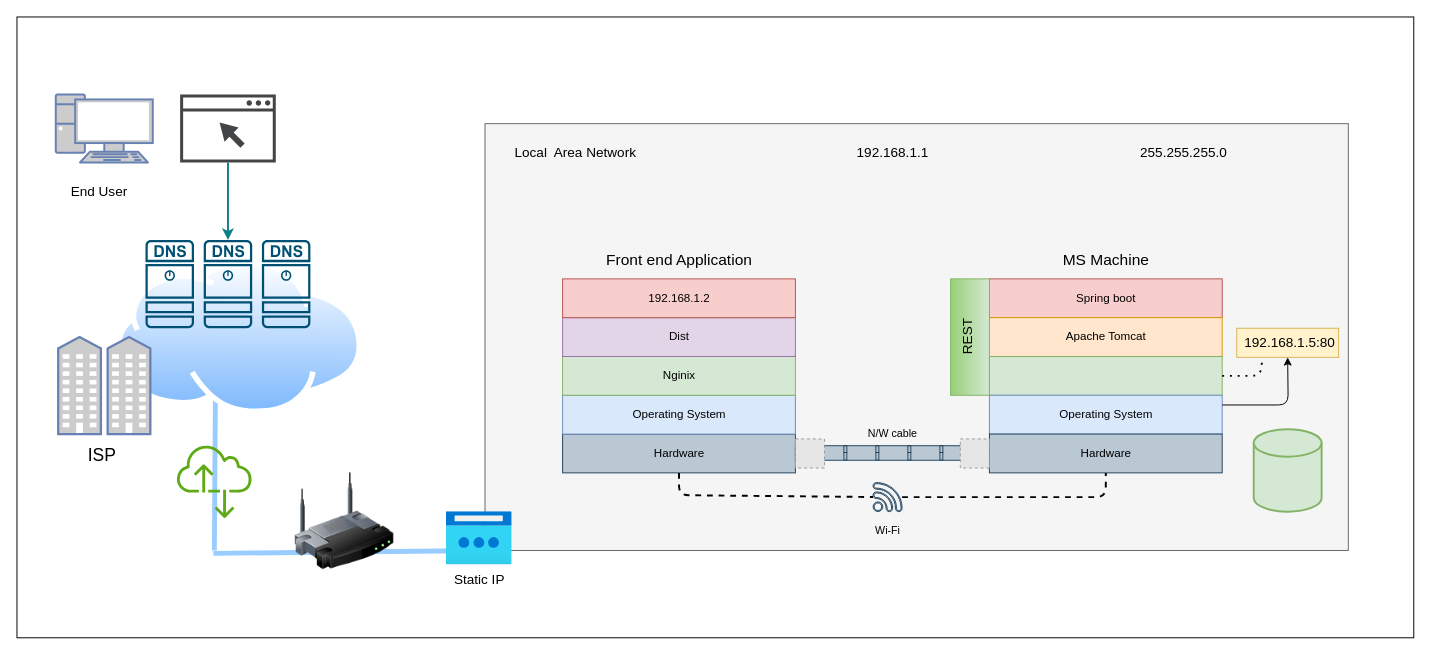
The diagram is 1431 pixels wide and 655 high, and some of its shapes have lost their labels. Grey dashed boxes stand in for pictures. Each missing label, with the box of its shape:
Database: (1252, 428, 1322, 512)
Docker: (988, 356, 1222, 395)
